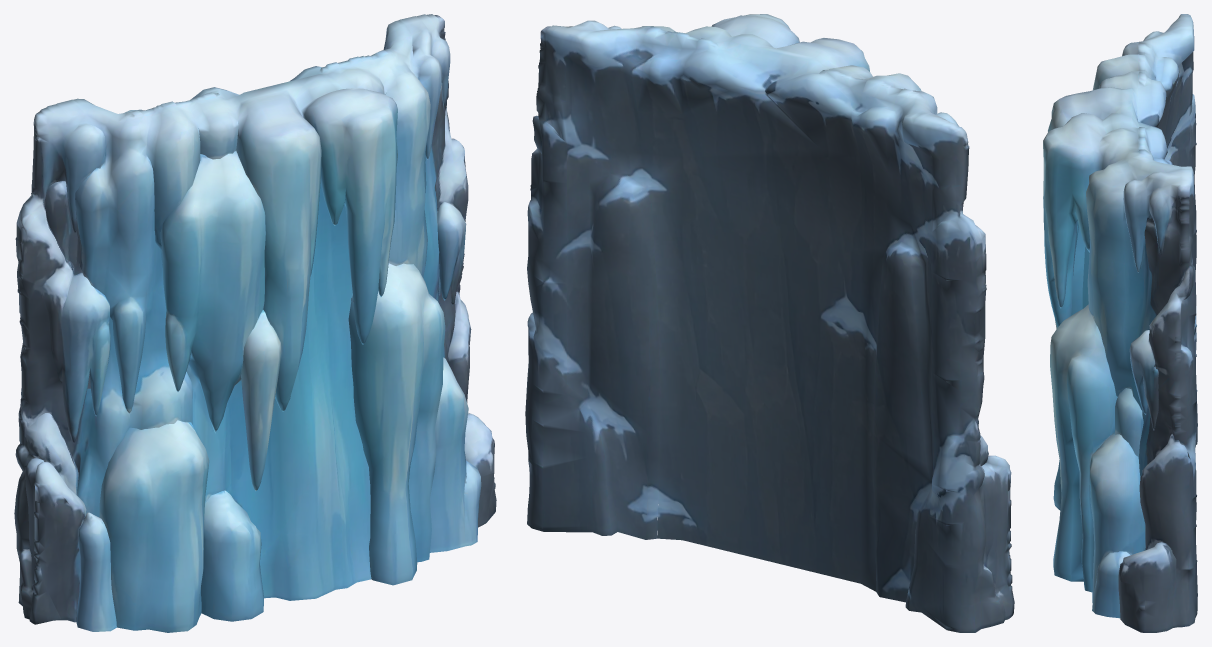
File: SM_Tripo_FrostIcefallMid.glb
The picture shows the model from 3 angles, left to right: view 1: azimuth 30°, elevation 25°; view 2: azimuth 150°, elevation 25°; view 3: azimuth 270°, elevation 25°; orthographic projection. The views are drawn at different scales.
Parts seen in each view (by area): view 1: SM_Tripo_FrostIcefallMid_LOD0; view 2: SM_Tripo_FrostIcefallMid_LOD0; view 3: SM_Tripo_FrostIcefallMid_LOD0.
Boxes of the visible parts, x1,y1,x2,y2 form: SM_Tripo_FrostIcefallMid_LOD0: (14, 14, 496, 632); SM_Tripo_FrostIcefallMid_LOD0: (525, 14, 1014, 632); SM_Tripo_FrostIcefallMid_LOD0: (1043, 14, 1197, 632).
Size of what is drawn, in the model's own units: 15.87 by 16 by 5.17.
1 material, 1 textured.
